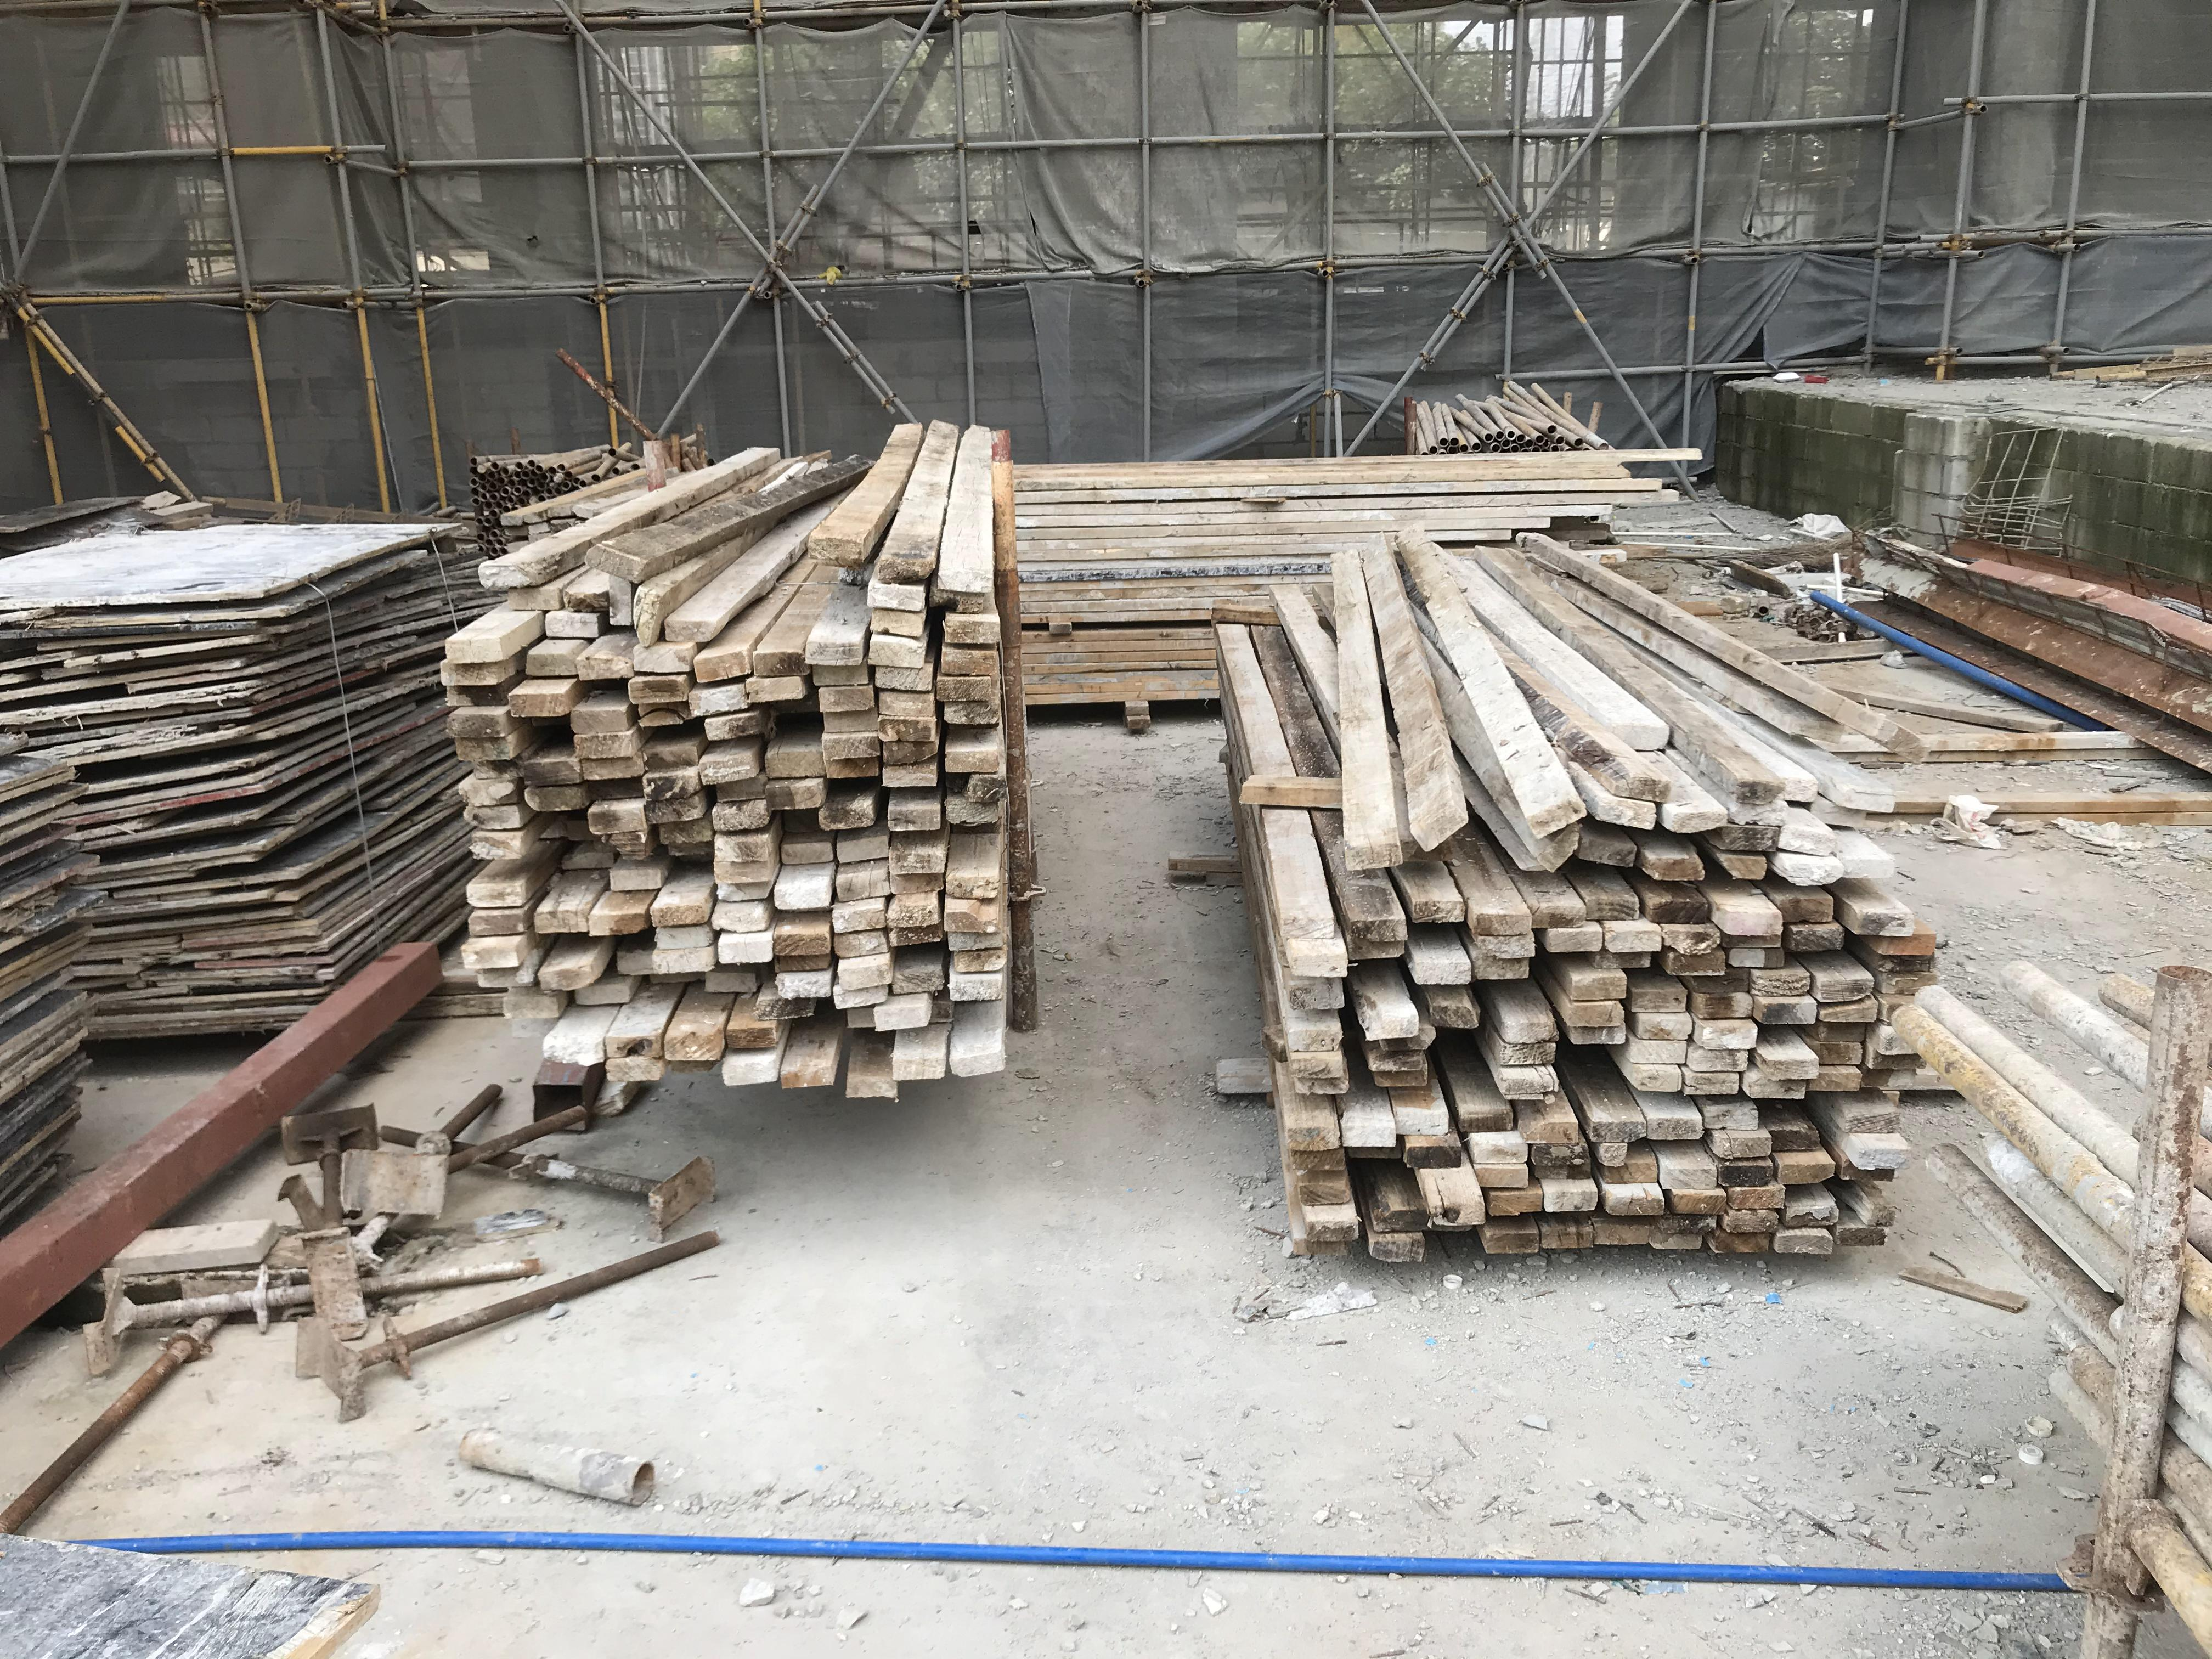board: (0, 511, 491, 1040), (0, 718, 94, 1239)
wood: (1214, 530, 1944, 1265), (439, 422, 1026, 1096)
